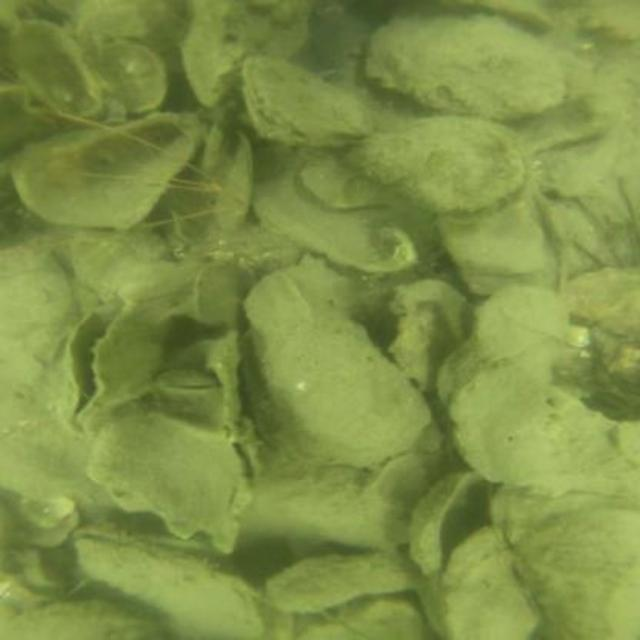Oyster-Closed: (241, 259, 435, 466), (447, 363, 638, 499), (358, 6, 574, 119), (74, 538, 265, 638), (336, 114, 529, 212), (490, 490, 603, 638), (180, 0, 319, 112), (241, 53, 374, 148), (261, 552, 437, 617), (435, 544, 541, 638), (0, 598, 157, 638), (298, 596, 429, 638), (212, 133, 258, 235)
Oyster-Open: (83, 400, 264, 555), (52, 297, 166, 443)
